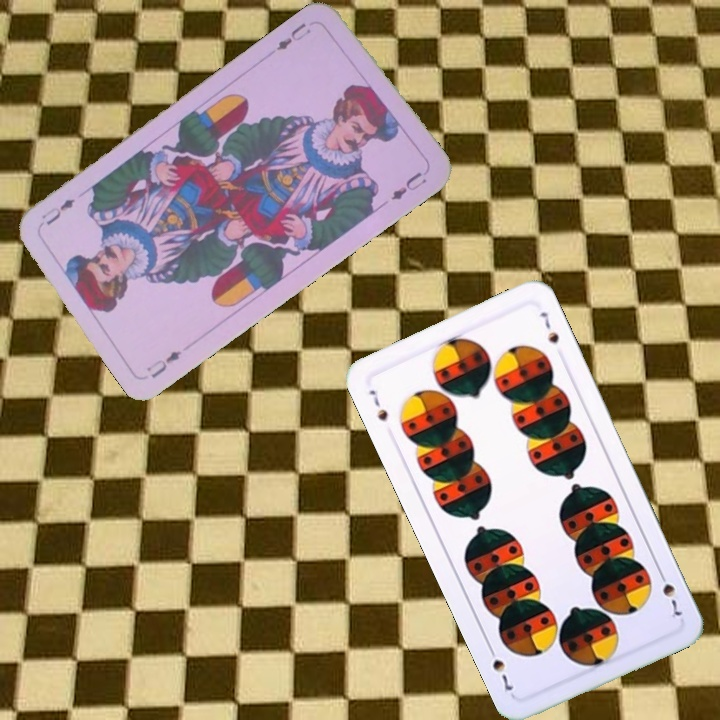EU: (272, 19, 314, 54), (142, 346, 184, 381)
S7: (654, 566, 685, 619), (364, 385, 391, 424)
